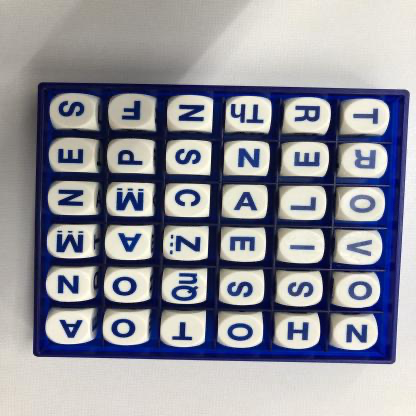a: (105, 226, 151, 260), (224, 186, 269, 219), (47, 312, 91, 344)
c: (165, 184, 210, 217)
e: (49, 137, 96, 171), (221, 228, 267, 262), (282, 143, 329, 176)
f: (109, 96, 156, 128)
h: (277, 316, 321, 350)
i: (279, 229, 326, 264)
l: (281, 185, 328, 220)
m: (105, 182, 152, 217), (48, 225, 92, 259)
n: (224, 141, 271, 176), (168, 97, 214, 132), (50, 181, 95, 216), (47, 268, 91, 303), (335, 317, 379, 352)
o: (336, 273, 382, 309), (218, 314, 264, 350), (104, 311, 149, 346), (340, 187, 386, 221), (105, 270, 151, 304)
p: (107, 139, 153, 173)
qu: (163, 270, 207, 304)
r: (284, 99, 332, 132), (341, 144, 388, 177)
s: (277, 271, 324, 307), (220, 270, 265, 305), (167, 141, 211, 175), (52, 95, 96, 127)
t: (161, 312, 206, 347), (343, 100, 389, 132)
th: (226, 97, 273, 132)
v: (336, 229, 383, 266)
z: (164, 227, 210, 260)
